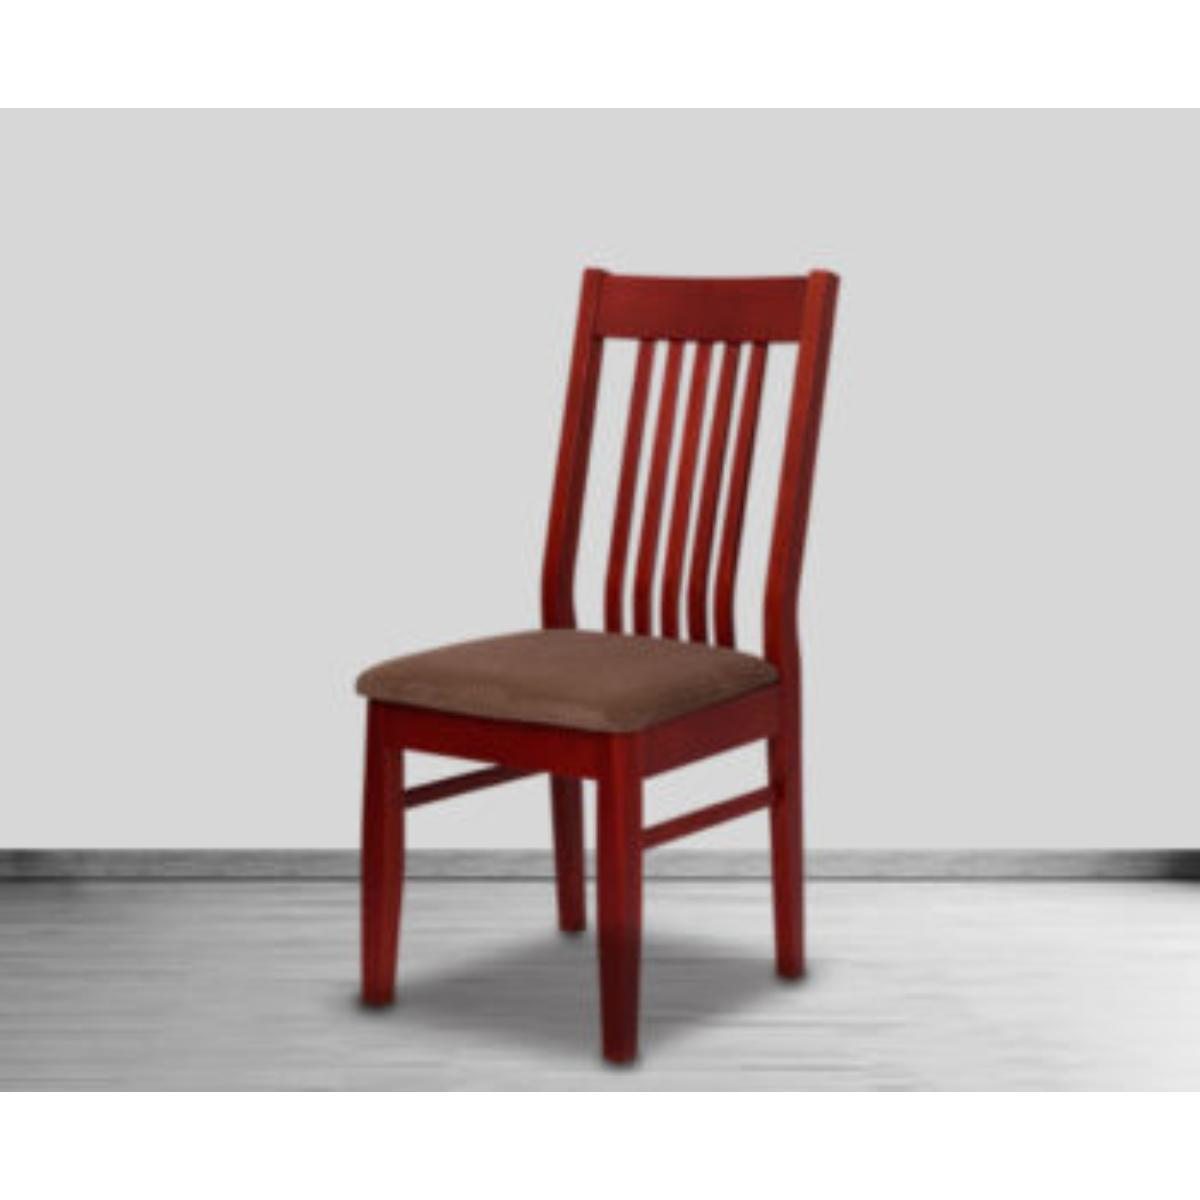Chair: (350, 265, 843, 1066)
